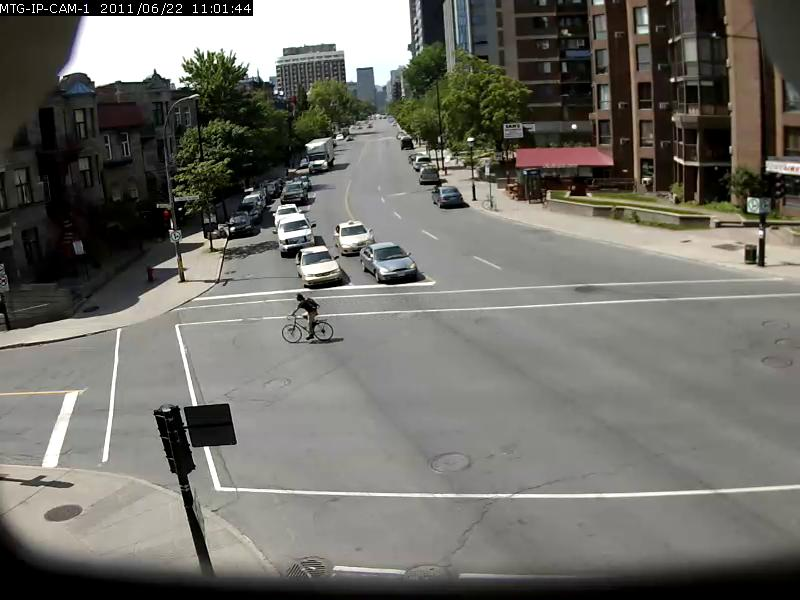Car: (356, 241, 418, 284), (294, 245, 341, 286), (276, 214, 315, 253), (333, 219, 374, 252), (279, 181, 307, 205), (272, 205, 300, 224)
Truck: (304, 137, 336, 173)
